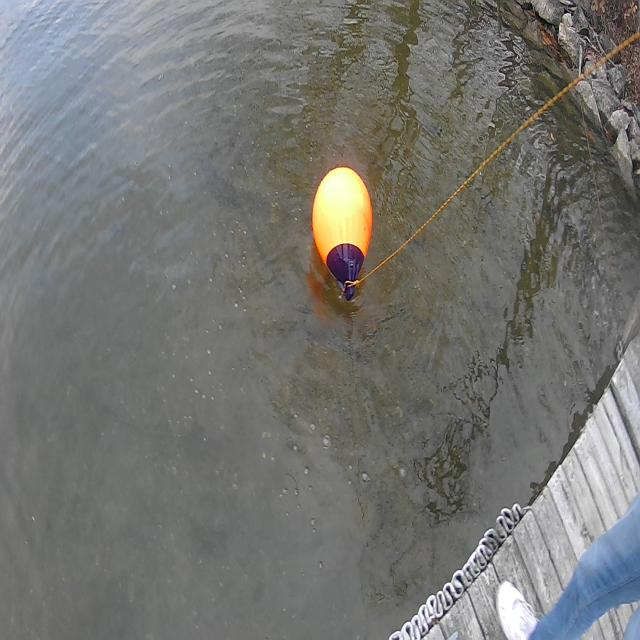Buoy: (310, 160, 376, 304)
